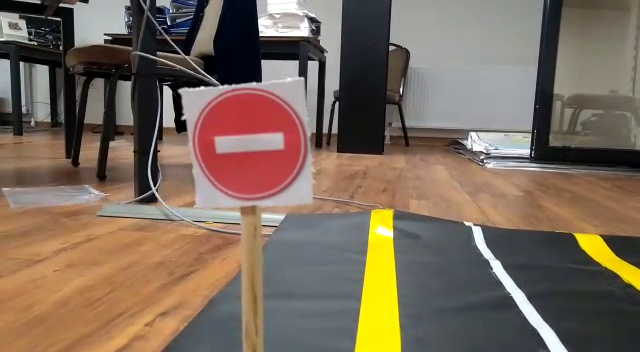girisi_olmayan_yol: (178, 85, 316, 204)
